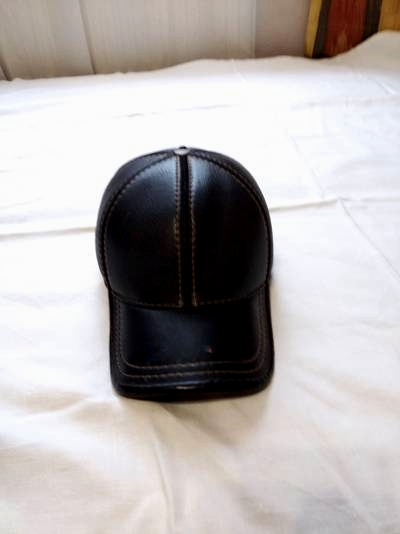Hat: (78, 127, 312, 421)
